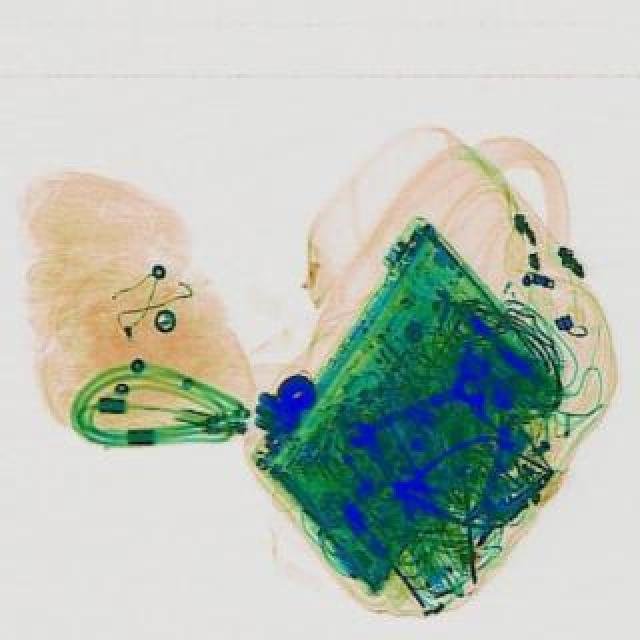scissors: (340, 366, 484, 452), (338, 416, 434, 528)
wrench: (378, 432, 506, 528)
